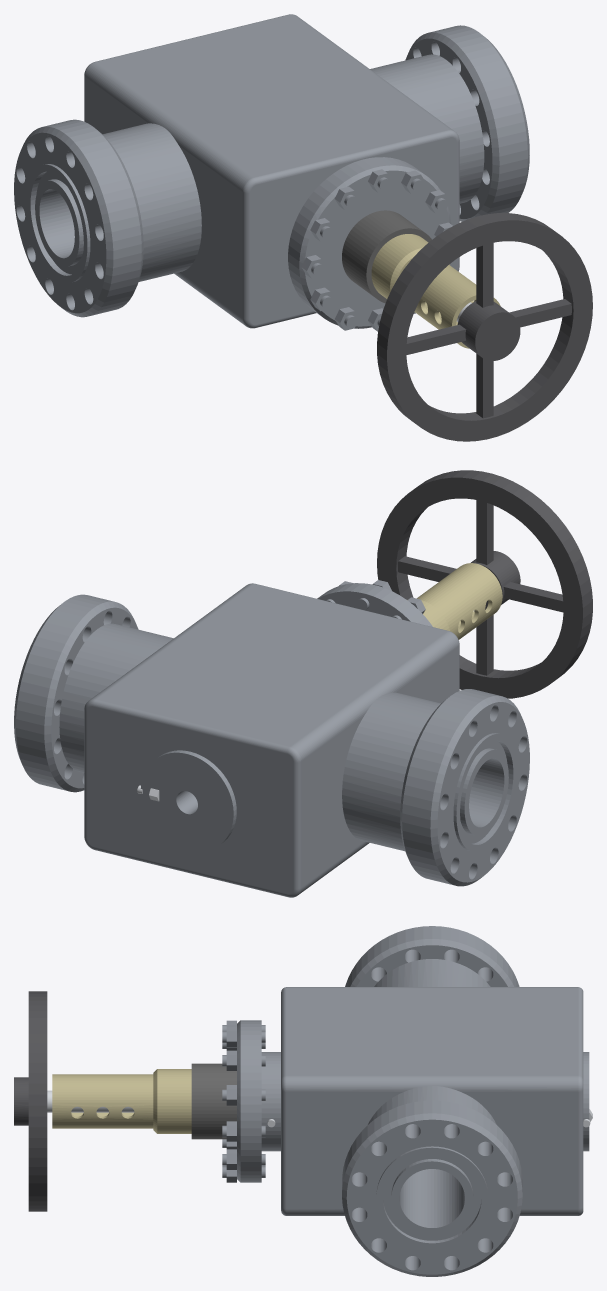
File: WH-GATEVALVE.5-10K.glb
The picture shows the model from 3 angles, top to bottom: view 1: azimuth 30°, elevation 25°; view 2: azimuth 150°, elevation 25°; view 3: azimuth 270°, elevation 25°; orthographic projection. The views are drawn at different scales.
Parts seen in each view (by area): view 1: WH-GATEVALVE-BODY, WH-GATEVALVE-HANDWHEEL, WH-GATEVALVE-FLANGE-IN, WH-GATEVALVE-BONNET, WH-GATEVALVE-FLANGE-OUT, WH-GATEVALVE-BEARING, WH-GATEVALVE-PACKING; view 2: WH-GATEVALVE-BODY, WH-GATEVALVE-FLANGE-IN, WH-GATEVALVE-HANDWHEEL, WH-GATEVALVE-FLANGE-OUT, WH-GATEVALVE-BEARING, WH-GATEVALVE-BONNET; view 3: WH-GATEVALVE-BODY, WH-GATEVALVE-FLANGE-OUT, WH-GATEVALVE-BEARING, WH-GATEVALVE-BONNET, WH-GATEVALVE-FLANGE-IN, WH-GATEVALVE-HANDWHEEL, WH-GATEVALVE-PACKING.
Part boxes in pixels (x1,y1,x2,y2): WH-GATEVALVE-BODY: [84, 14, 484, 328]; WH-GATEVALVE-HANDWHEEL: [377, 213, 592, 441]; WH-GATEVALVE-FLANGE-IN: [14, 119, 143, 317]; WH-GATEVALVE-BONNET: [288, 157, 452, 331]; WH-GATEVALVE-FLANGE-OUT: [405, 25, 529, 221]; WH-GATEVALVE-BEARING: [371, 234, 500, 348]; WH-GATEVALVE-PACKING: [342, 210, 431, 303]; WH-GATEVALVE-BODY: [59, 583, 459, 897]; WH-GATEVALVE-FLANGE-IN: [400, 689, 529, 886]; WH-GATEVALVE-HANDWHEEL: [377, 470, 592, 698]; WH-GATEVALVE-FLANGE-OUT: [14, 594, 138, 792]; WH-GATEVALVE-BEARING: [407, 563, 502, 639]; WH-GATEVALVE-BONNET: [317, 580, 432, 626]; WH-GATEVALVE-BODY: [261, 959, 589, 1215]; WH-GATEVALVE-FLANGE-OUT: [342, 1100, 522, 1276]; WH-GATEVALVE-BEARING: [52, 1069, 191, 1133]; WH-GATEVALVE-BONNET: [222, 1020, 265, 1182]; WH-GATEVALVE-FLANGE-IN: [345, 926, 519, 986]; WH-GATEVALVE-HANDWHEEL: [14, 991, 47, 1211]; WH-GATEVALVE-PACKING: [191, 1063, 236, 1139].
Size of the model in its own units: 0.9144 by 0.4386 by 1.15.
